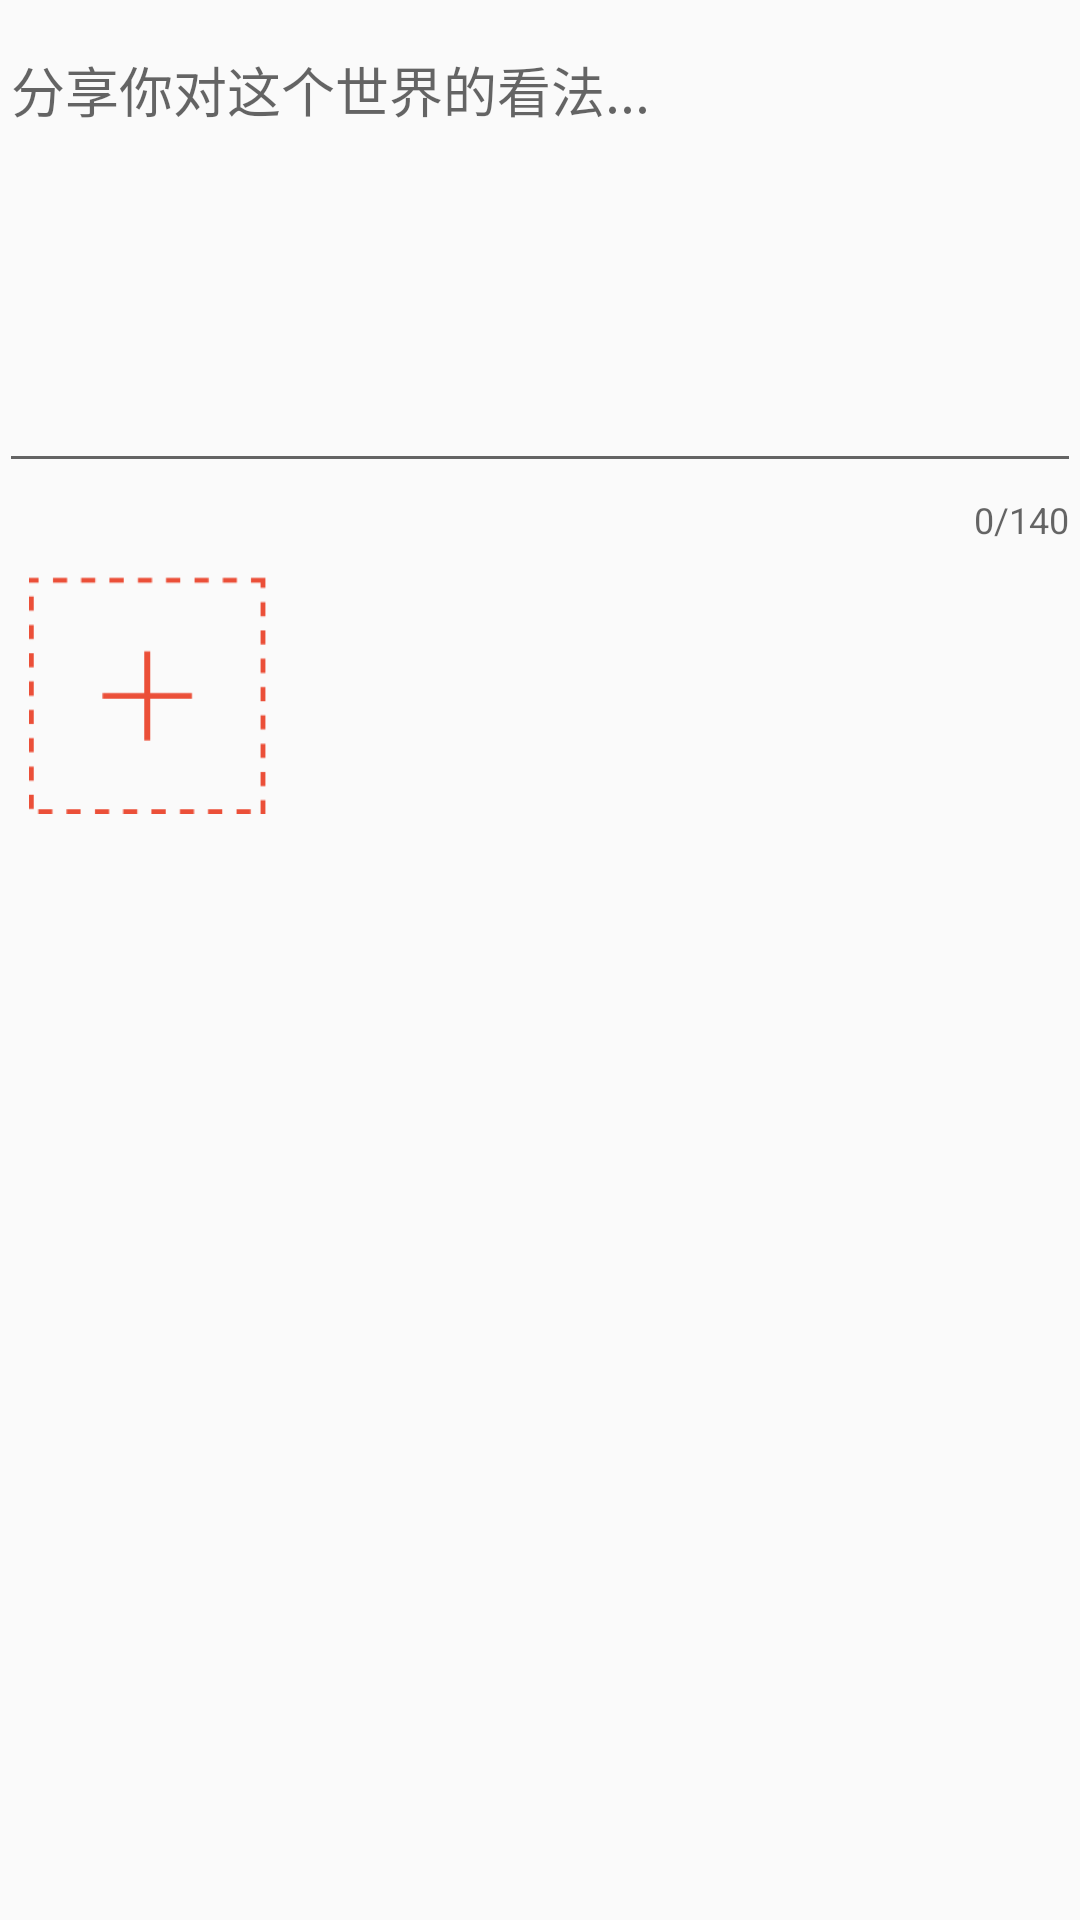

Point at icon controls on the screen. Image size 1080x1920, points as (x=x, y=y).
add pic: (x=147, y=695)
